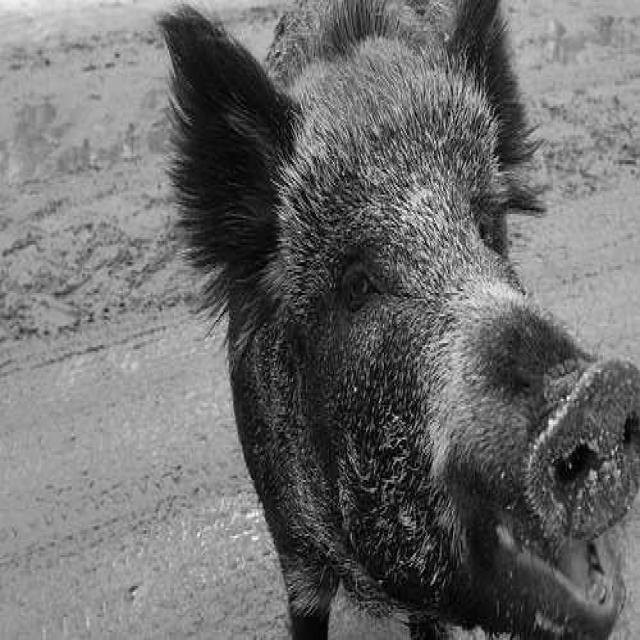boar: (161, 0, 637, 636)
